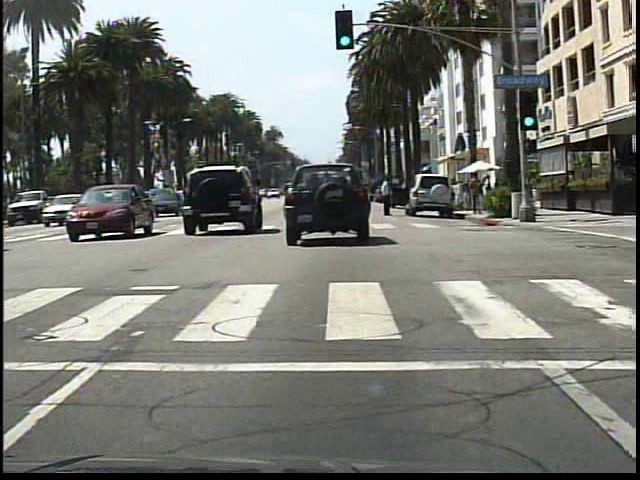person: (376, 170, 398, 220)
